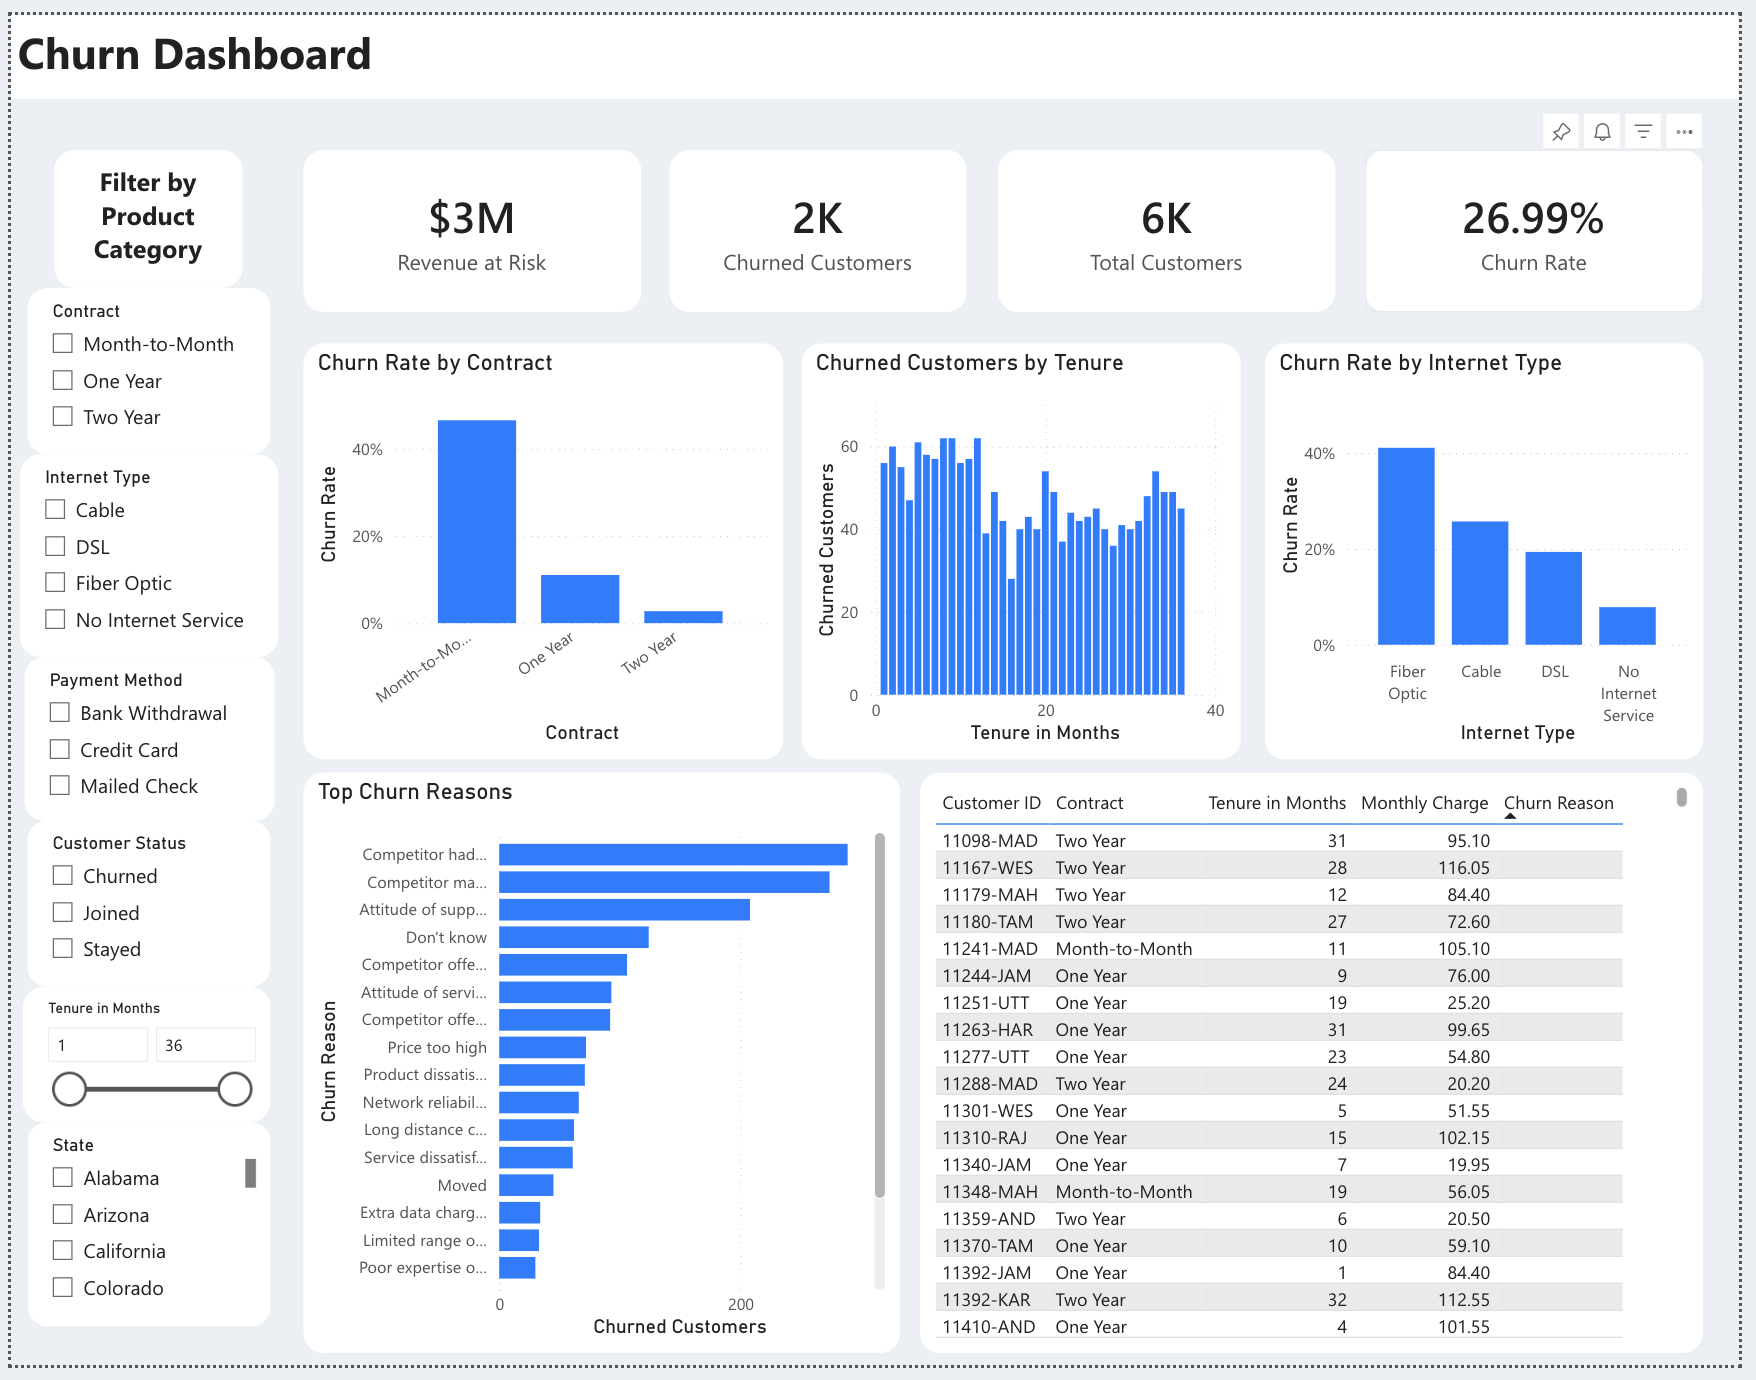

The dashboard page shown, as its layout file describes it:
{"tool":"powerbi","page":{"name":"Page 1","canvas":[1280,1000],"ordinal":0},"visuals":[{"type":"cardVisual","fields":{"Data":["prod_data 1.Total Customers"]},"box":[731.1,100,250,120],"z":0},{"type":"cardVisual","fields":{"Data":["prod_data 1.Churned Customers"]},"box":[487.8,100,220,120],"z":1000},{"type":"cardVisual","fields":{"Data":["prod_data 1.Churn Rate"]},"box":[1003.3,100,250,120],"z":2000},{"type":"cardVisual","fields":{"Data":["prod_data 1.Revenue at Risk"]},"box":[216.7,100,250,120],"z":3000},{"type":"columnChart","fields":{"Category":["prod_data 1.Contract"],"Y":["prod_data 1.Churn Rate"]},"box":[216.7,243.3,355.6,307.8],"z":4000},{"type":"columnChart","title":"Churned Customers by Tenure","fields":{"Category":["prod_data 1.Tenure_in_Months"],"Y":["prod_data 1.Churned Customers"]},"box":[585.6,243.3,325.6,307.8],"z":5000},{"type":"columnChart","title":"Churn Rate by Internet Type","fields":{"Category":["prod_data 1.Internet_Type"],"Y":["prod_data 1.Churn Rate"]},"box":[928.9,243.3,324.4,307.8],"z":6000},{"type":"clusteredBarChart","title":"Top Churn Reasons","fields":{"Category":["prod_data 1.Churn_Reason"],"Y":["prod_data 1.Churned Customers"]},"box":[216.7,561.1,442.2,430],"z":7000},{"type":"tableEx","fields":{"Values":["prod_data 1.Customer_ID","prod_data 1.Contract","prod_data 1.Tenure_in_Months","prod_data 1.Monthly_Charge","prod_data 1.Churn_Reason"]},"box":[673.3,561.1,580,430],"z":8000},{"type":"slicer","fields":{"Values":["prod_data 1.Contract"]},"box":[12.2,202.2,180,123.3],"z":9000},{"type":"slicer","fields":{"Values":["prod_data 1.Internet_Type"]},"box":[6.7,325.6,191.1,150],"z":10000},{"type":"slicer","fields":{"Values":["prod_data 1.Payment_Method"]},"box":[10,475.6,185.6,121.1],"z":11000},{"type":"slicer","fields":{"Values":["prod_data 1.State"]},"box":[12.2,820,180,151.1],"z":12000},{"type":"slicer","fields":{"Values":["prod_data 1.Customer_Status"]},"box":[12.2,596.7,180,123.3],"z":13000},{"type":"slicer","fields":{"Values":["prod_data 1.Tenure_in_Months"]},"box":[8.9,720,183.3,100],"z":14000},{"type":"textbox","box":[0,0,1279,62],"z":15000},{"type":"textbox","box":[32.2,100,139,102],"z":16000}]}

Visuals, with their boxes in screenshot pixels (x1, y1, x2, y2), scaled from the page's 1280x1000 canvas onto the 1756x1380 screenshot:
cardVisual - prod_data 1.Total Customers: locate(1003, 138, 1346, 304)
cardVisual - prod_data 1.Churned Customers: locate(669, 138, 971, 304)
cardVisual - prod_data 1.Churn Rate: locate(1376, 138, 1719, 304)
cardVisual - prod_data 1.Revenue at Risk: locate(297, 138, 640, 304)
columnChart - prod_data 1.Contract x prod_data 1.Churn Rate: locate(297, 336, 785, 761)
"Churned Customers by Tenure" columnChart: locate(803, 336, 1250, 761)
"Churn Rate by Internet Type" columnChart: locate(1274, 336, 1719, 761)
"Top Churn Reasons" clusteredBarChart: locate(297, 774, 904, 1368)
tableEx - prod_data 1.Customer_ID x prod_data 1.Contract: locate(924, 774, 1719, 1368)
slicer - prod_data 1.Contract: locate(17, 279, 264, 449)
slicer - prod_data 1.Internet_Type: locate(9, 449, 271, 656)
slicer - prod_data 1.Payment_Method: locate(14, 656, 268, 823)
slicer - prod_data 1.State: locate(17, 1132, 264, 1340)
slicer - prod_data 1.Customer_Status: locate(17, 823, 264, 994)
slicer - prod_data 1.Tenure_in_Months: locate(12, 994, 264, 1132)
textbox: locate(0, 0, 1755, 86)
textbox: locate(44, 138, 235, 279)
